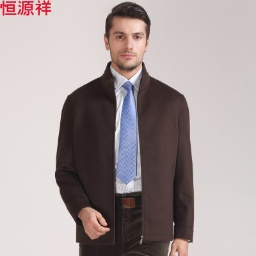face: (104, 2, 150, 71)
